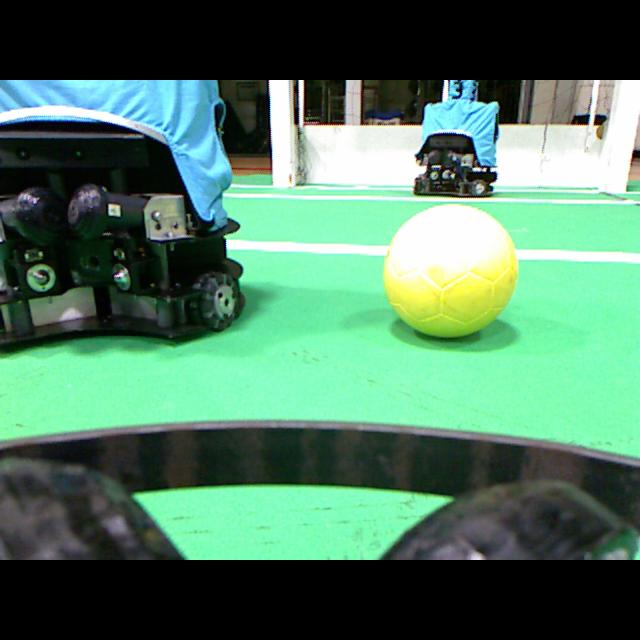ball: (384, 204, 517, 337)
goal: (605, 80, 639, 193), (269, 80, 294, 186)
